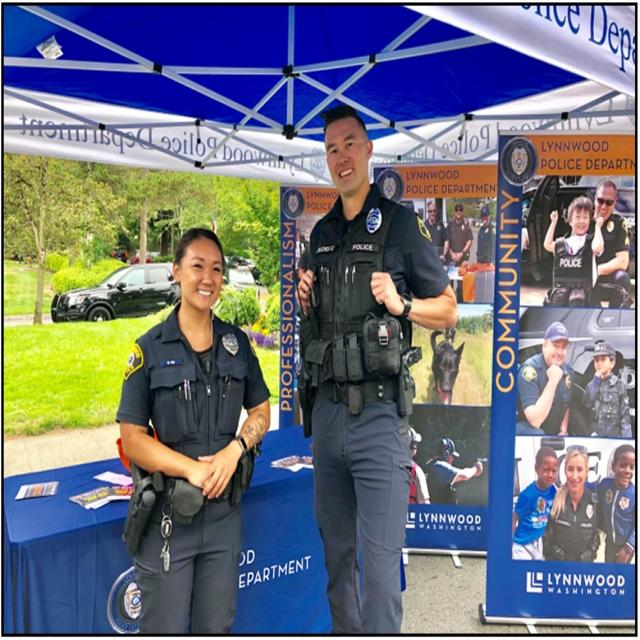police: (276, 108, 442, 640), (84, 224, 268, 640)
